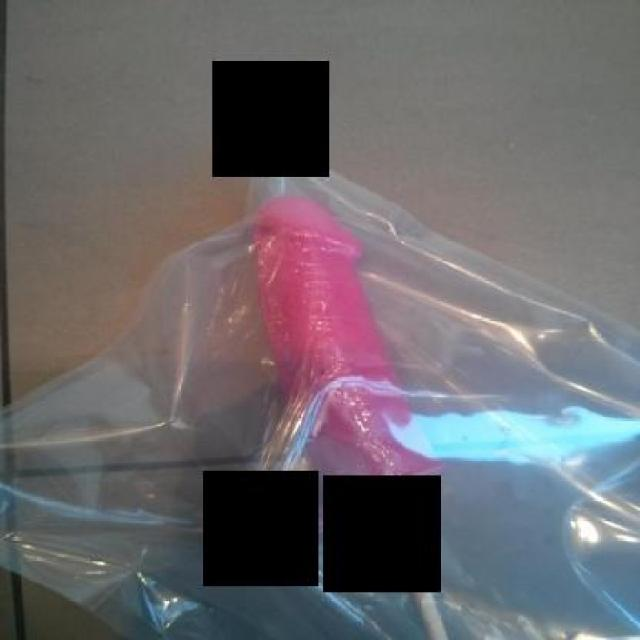plastic bag: (7, 156, 633, 618)
